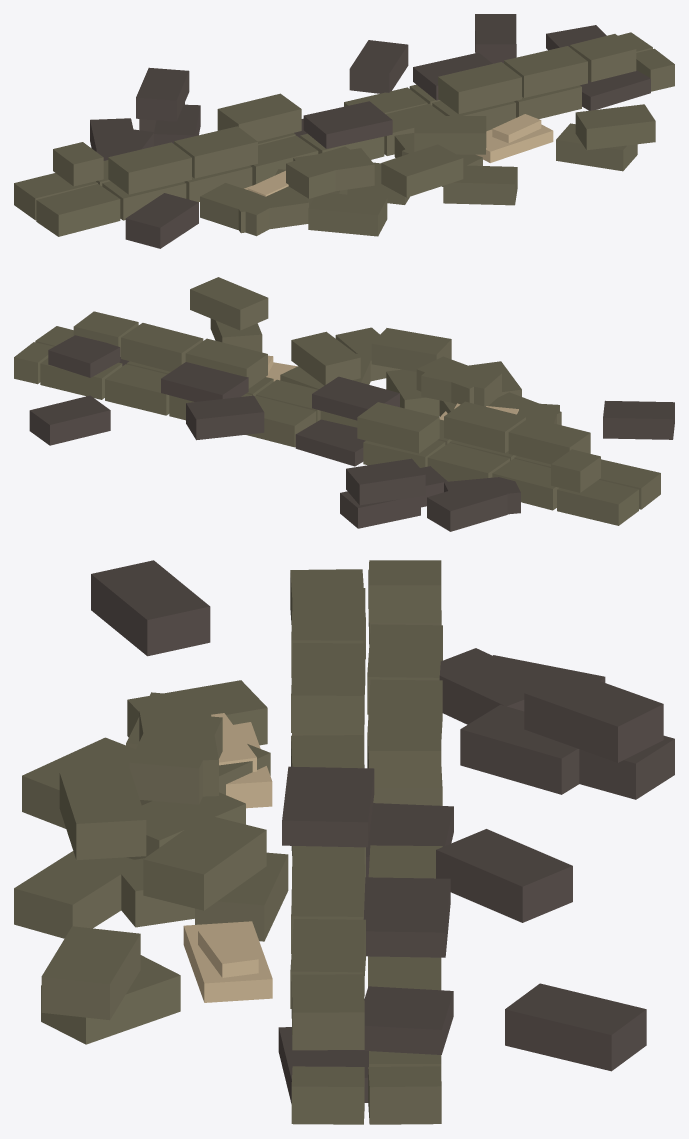
File: SM_MuroSacos_v1_Talud_e2_MuyDanado_LOD0.fbx
The picture shows the model from 3 angles, top to bottom: view 1: azimuth 30°, elevation 25°; view 2: azimuth 150°, elevation 25°; view 3: azimuth 270°, elevation 25°; orthographic projection. The views are drawn at different scales.
Parts seen in each view (by area): view 1: SM_bloques.muro_sacos_estados_v6_LOD0; view 2: SM_bloques.muro_sacos_estados_v6_LOD0; view 3: SM_bloques.muro_sacos_estados_v6_LOD0.
Part boxes in pixels (x1,y1,x2,y2): SM_bloques.muro_sacos_estados_v6_LOD0: [14, 14, 674, 248]; SM_bloques.muro_sacos_estados_v6_LOD0: [14, 277, 674, 531]; SM_bloques.muro_sacos_estados_v6_LOD0: [14, 560, 674, 1124].
Size of the model in its own units: 7.97 by 0.585 by 4.3.
